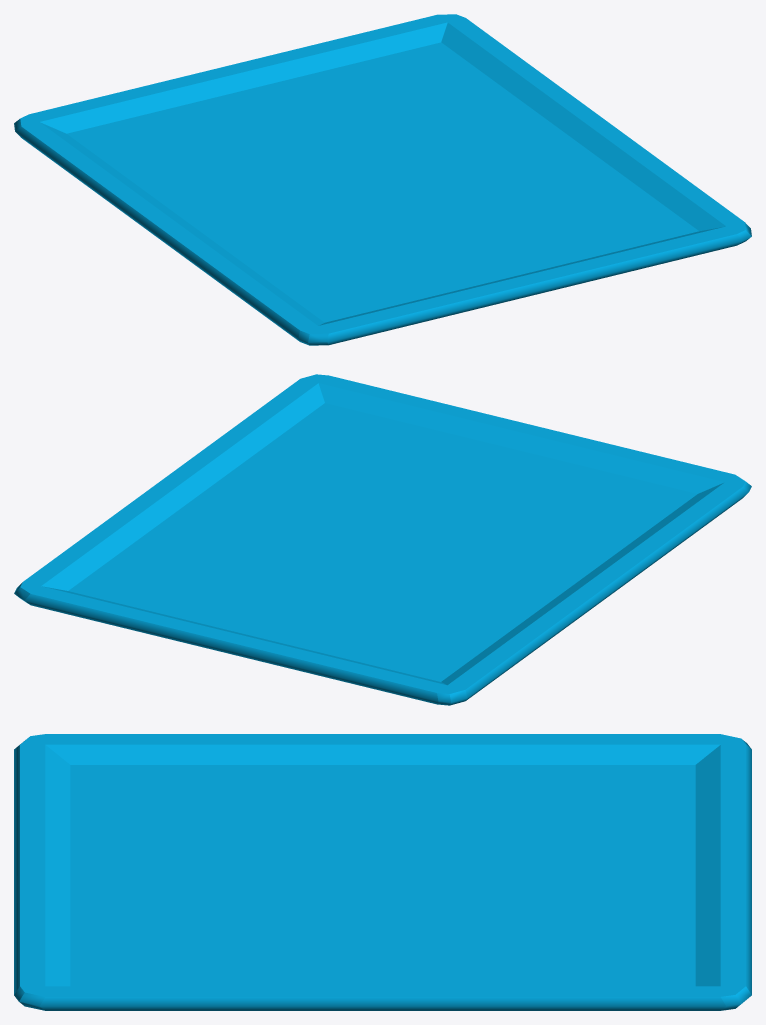
Rendered from Restaurant_Electric_Oven_Tray_Lod1.fbx.
The picture shows the model from 3 angles, top to bottom: view 1: azimuth 30°, elevation 25°; view 2: azimuth 150°, elevation 25°; view 3: azimuth 270°, elevation 25°; orthographic projection. The views are drawn at different scales.
Visible parts, largest first — view 1: Restaurant_Electric_Oven_Tray_Lod1; view 2: Restaurant_Electric_Oven_Tray_Lod1; view 3: Restaurant_Electric_Oven_Tray_Lod1.
Boxes of the visible parts, x1,y1,x2,y2 form: Restaurant_Electric_Oven_Tray_Lod1: (14,14,751,345); Restaurant_Electric_Oven_Tray_Lod1: (14,374,751,705); Restaurant_Electric_Oven_Tray_Lod1: (14,734,751,1010).
Bounding box in the file's own units: 42.3 × 1.03 × 49.3.
